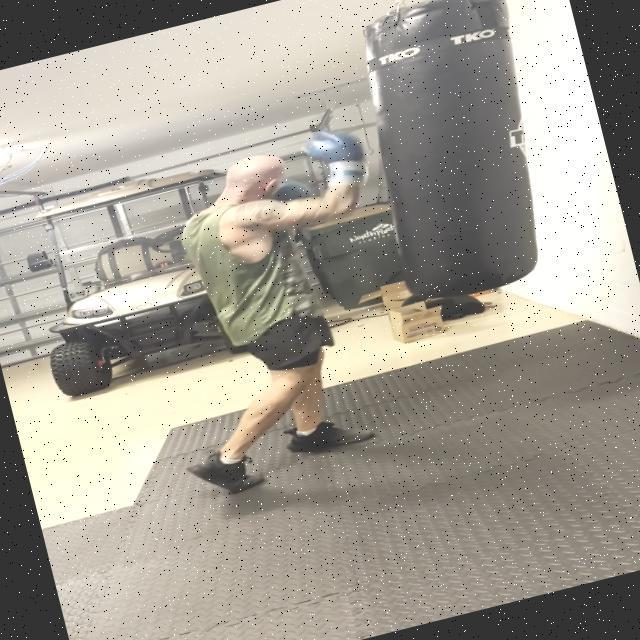bag: (349, 0, 580, 317)
uppercut: (155, 106, 388, 272)
